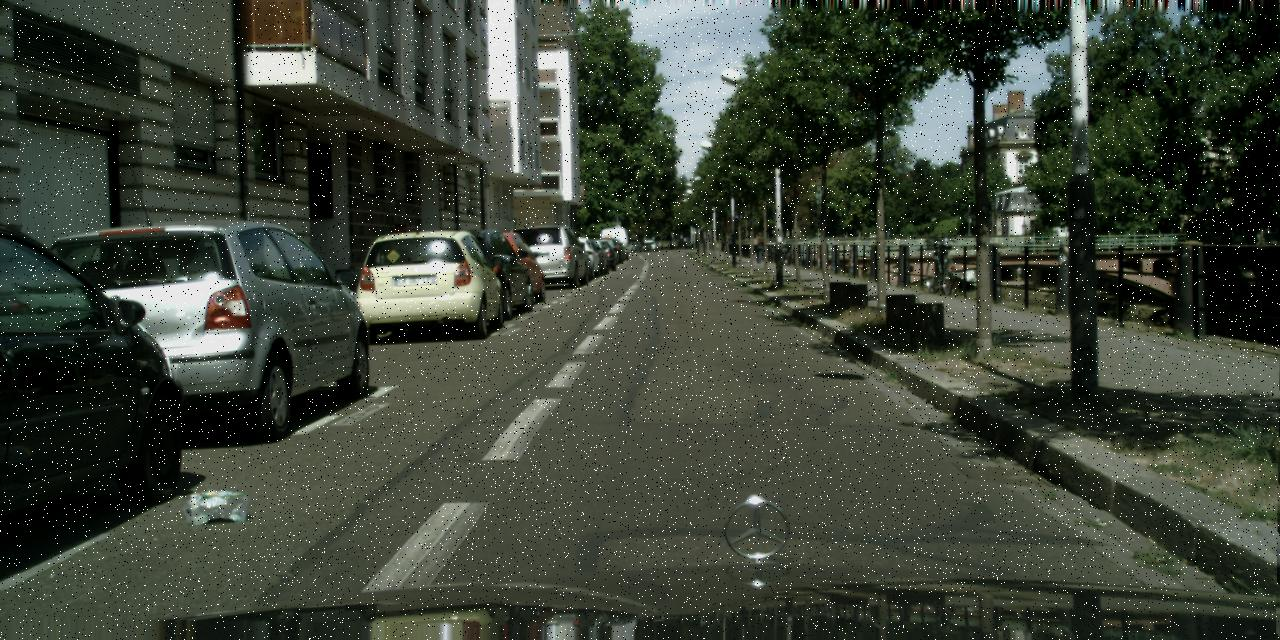ped: (753, 232, 765, 262)
